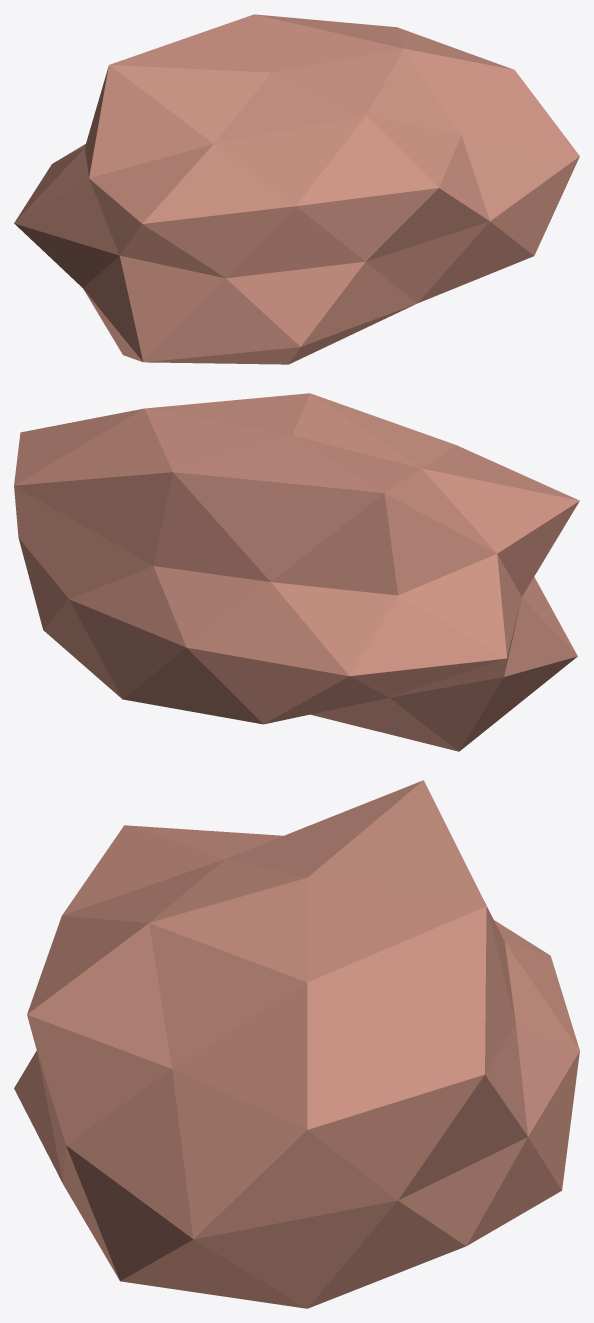
File: sten_1.glb
3 views of the same model, one above another, from view 1: azimuth 30°, elevation 25°; view 2: azimuth 150°, elevation 25°; view 3: azimuth 270°, elevation 25° (orthographic). The views are drawn at different scales.
Visible parts, largest first — view 1: sten_1; view 2: sten_1; view 3: sten_1.
Part boxes in pixels (bbox=[...]): sten_1: bbox=[14, 14, 579, 364]; sten_1: bbox=[14, 393, 579, 751]; sten_1: bbox=[14, 780, 579, 1308].
Bounding box in the file's own units: 2.92 × 1.44 × 2.01.
